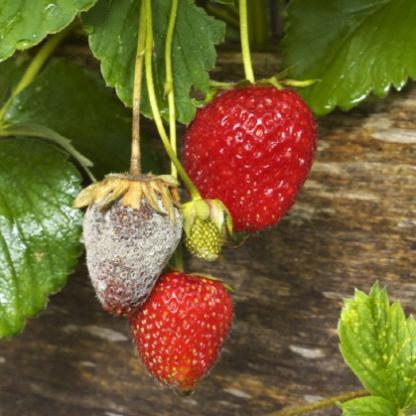Strawberry_Gray_Mold: (72, 172, 184, 319)
